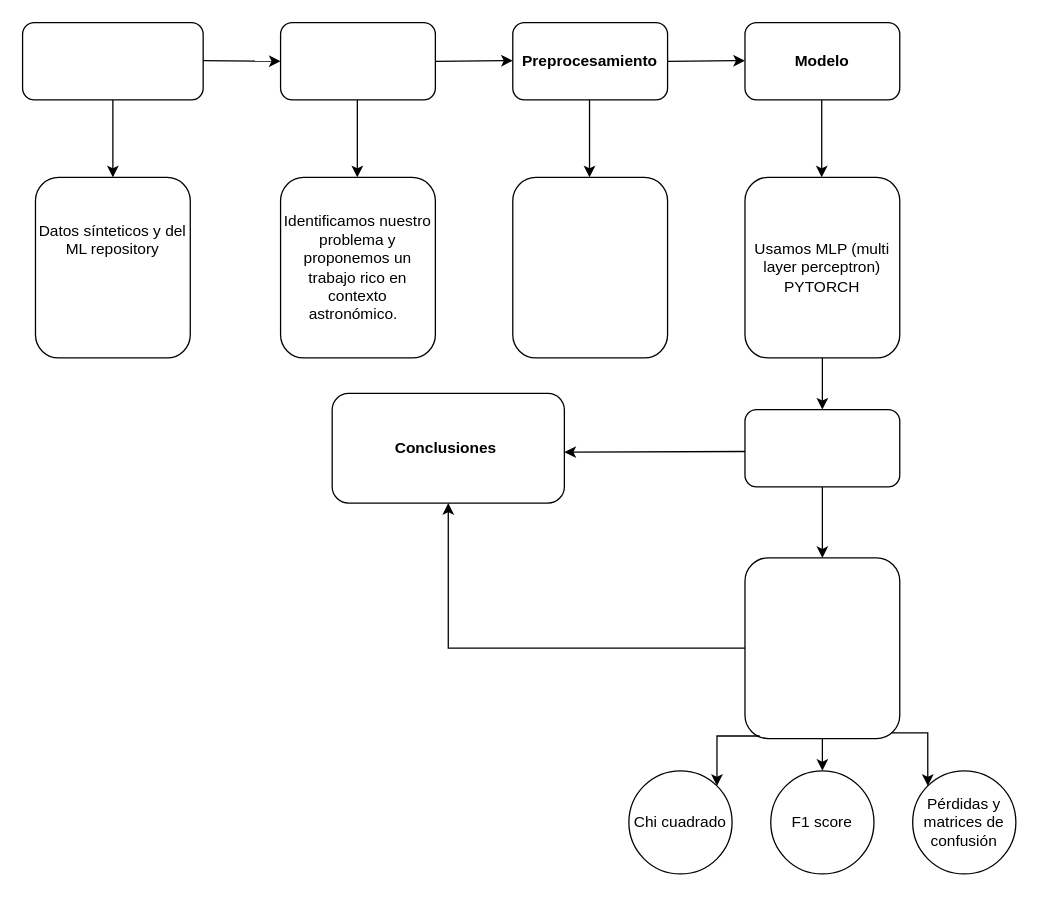
This 1038x897 diagram has some shape labels left out. Each missing label, with the box of its shape:
* Normalización * limpieza de datos * Resultados estadísticos *: (511, 176, 668, 358)
Análisis de los resultados usando métricas estándar: (744, 557, 900, 739)
Datos: (21, 21, 203, 100)
Introducción: (279, 21, 435, 100)
Resultados: (744, 408, 900, 487)
